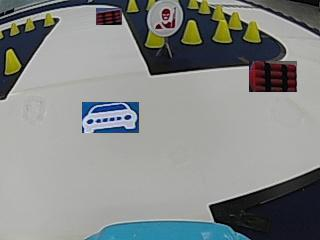evil: (147, 0, 183, 37)
